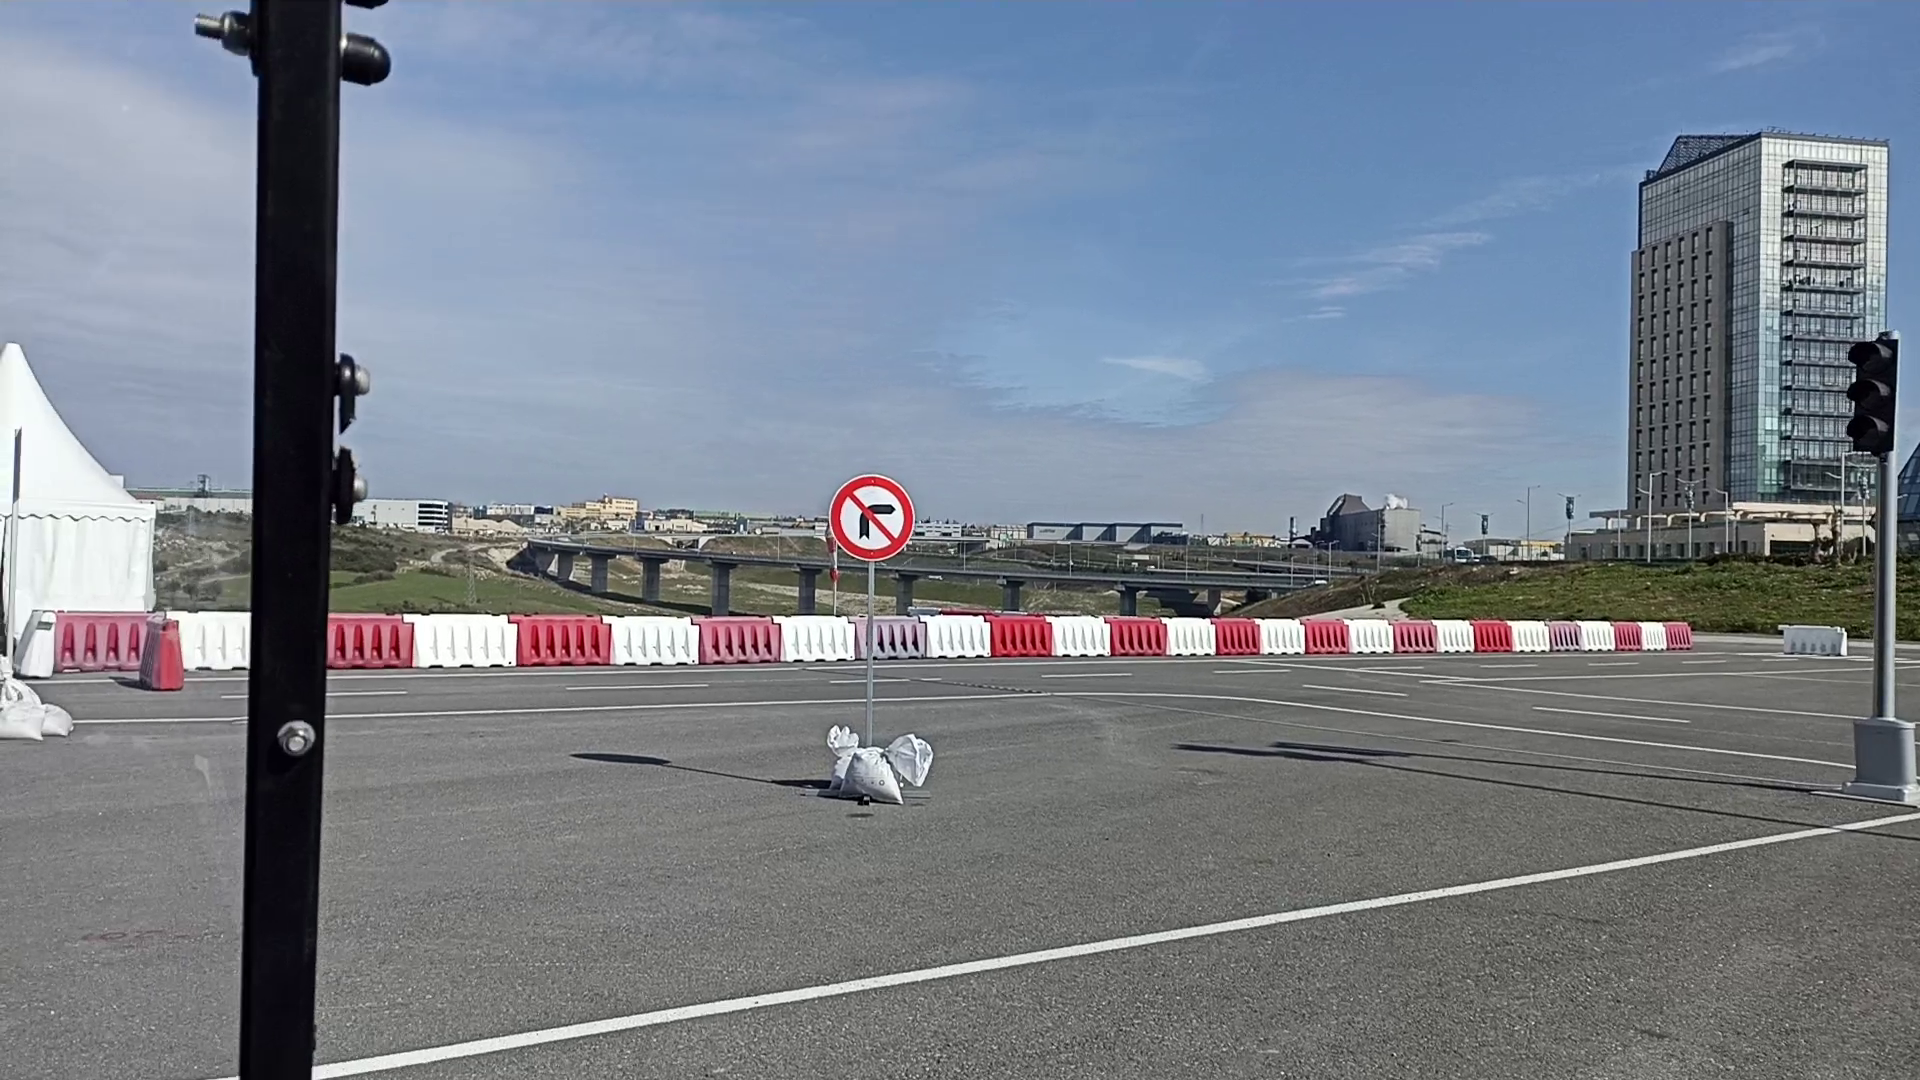noleftturn: (827, 473, 916, 563)
trafficlight: (1841, 334, 1898, 454)
